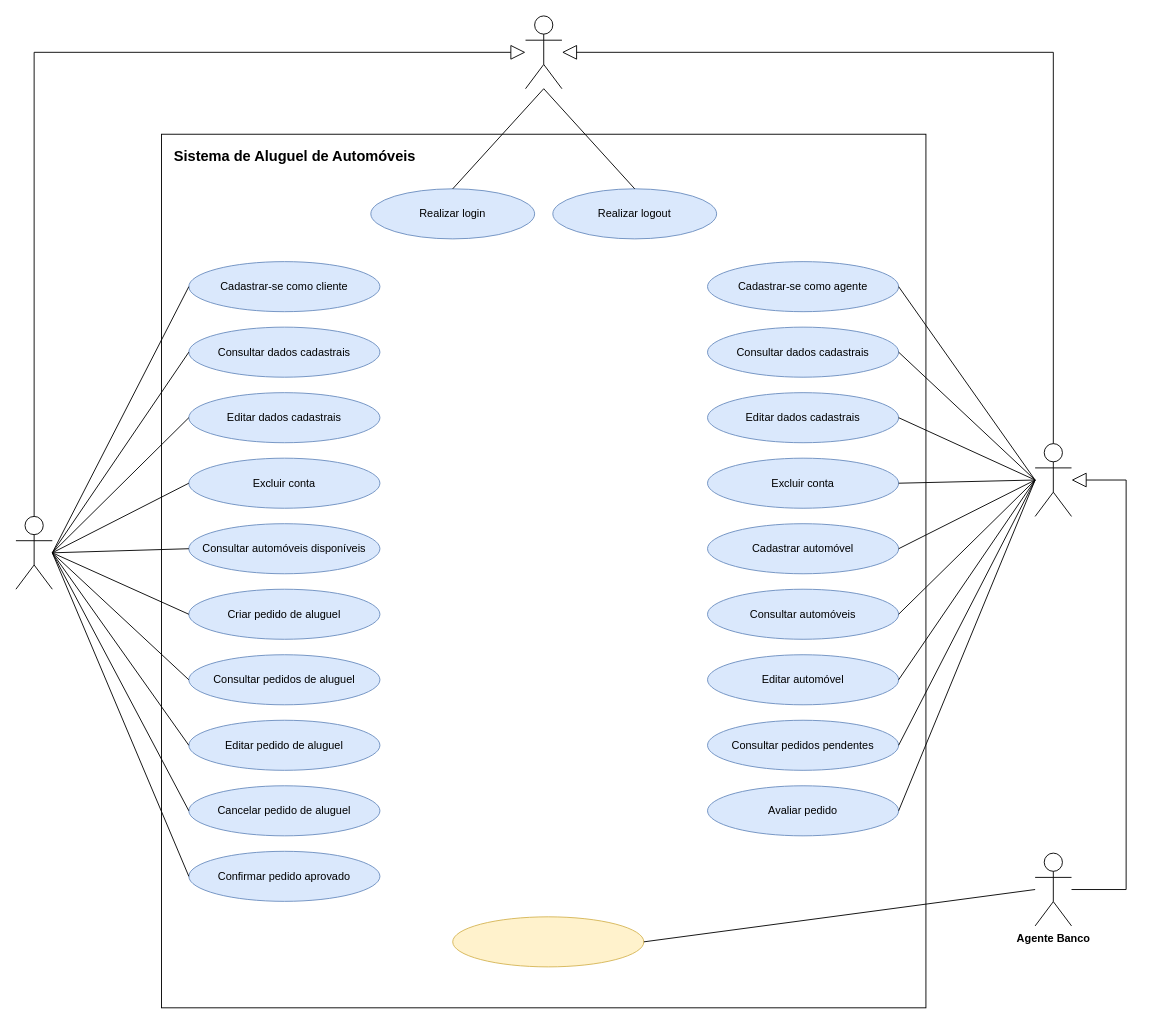
This 1157x1024 diagram has some shape labels left out. Here are the shapes that lost their labels. From the top down, the box of each, then its label:
(525, 15, 562, 89): Usuário
(1034, 443, 1072, 516): Agente
(15, 516, 52, 589): Cliente
(452, 916, 644, 967): Conceder contrato de crédito
